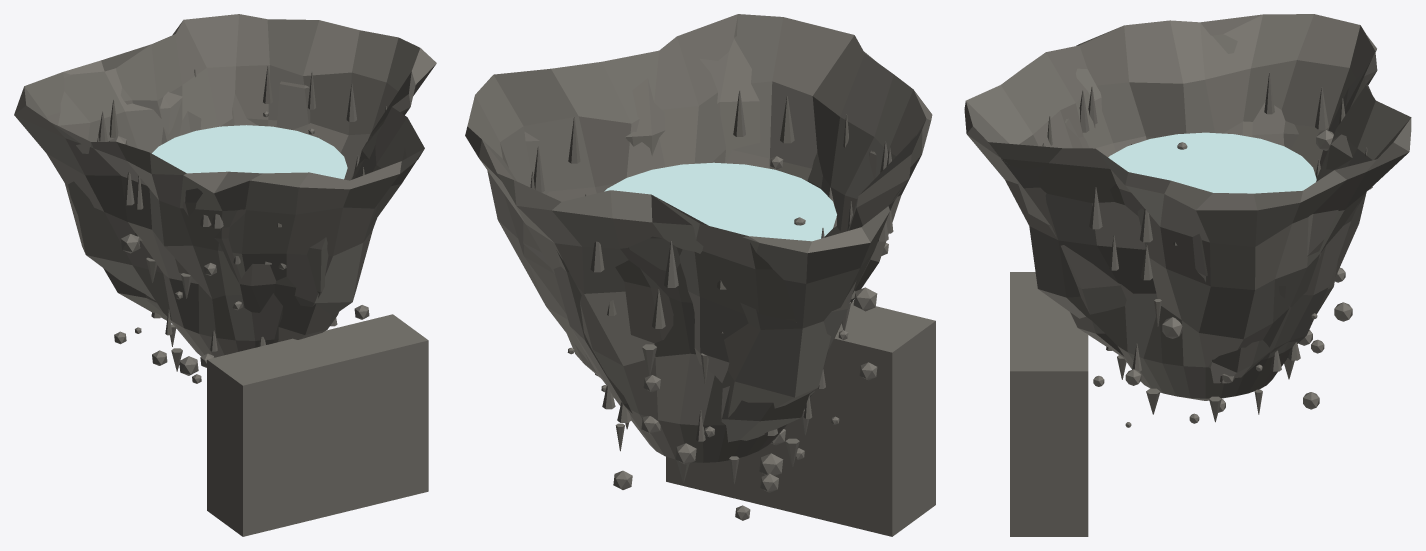
The model's file is cenote-prueba-4.fbx.
3 renders of one model, left to right at view 1: azimuth 30°, elevation 25°; view 2: azimuth 150°, elevation 25°; view 3: azimuth 270°, elevation 25°, orthographic. The views are drawn at different scales.
Visible parts, largest first — view 1: Cenote_LOD0, Cenote_Agua_Cristalina; view 2: Cenote_LOD0, Cenote_Agua_Cristalina; view 3: Cenote_LOD0, Cenote_Agua_Cristalina.
Boxes of the visible parts, box(x1,y1,x2,y2) form: Cenote_LOD0: box(14, 14, 436, 536); Cenote_Agua_Cristalina: box(152, 125, 347, 179); Cenote_LOD0: box(465, 14, 935, 536); Cenote_Agua_Cristalina: box(604, 162, 836, 241); Cenote_LOD0: box(964, 14, 1411, 536); Cenote_Agua_Cristalina: box(1108, 132, 1316, 193).
Size of what is drawn, in the model's own units: 3552 by 3299 by 3423.
